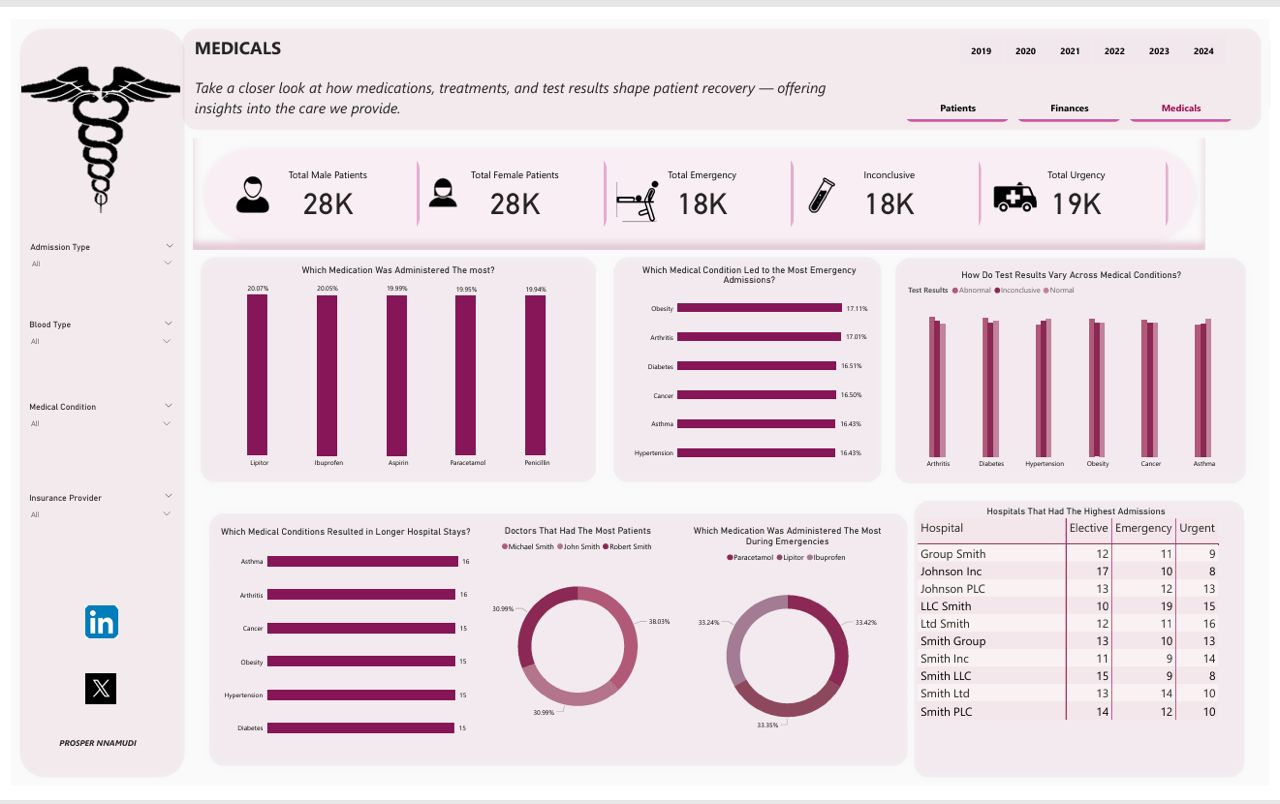

Layout of this report page (visuals, bound fields, positions):
{"tool":"powerbi","page":{"name":"Medicals","canvas":[2300,1400],"ordinal":2},"visuals":[{"type":"shape","box":[331.8,215.8,1848.8,202.9],"z":0},{"type":"shape","box":[296.7,0,2003.3,216.7],"z":1000},{"type":"shape","box":[0,0,333.3,1400],"z":2000},{"type":"slicer","fields":{"Values":["DateTable.Year"]},"box":[2489.3,53.6,410.7,75],"z":3000},{"type":"shape","box":[346.4,886.3,1307.3,492.4],"z":4000},{"type":"shape","box":[330.3,418.2,754.5,442.4],"z":5000},{"type":"shape","box":[1600,418.8,671.9,443.8],"z":6000},{"type":"shape","box":[1634.4,862.5,634.4,537.5],"z":7000},{"type":"shape","box":[1084.8,418.2,521.2,442.4],"z":8000},{"type":"clusteredColumnChart","title":" Which Medication Was  Administered The most?","fields":{"Category":["healthcare_dataset.Medication"],"Y":["healthcare_dataset.Medication"]},"box":[376.9,446.2,661.5,380.8],"z":9000},{"type":"barChart","title":"Which Medical Conditions Resulted in Longer Hospital Stays?","fields":{"Category":["healthcare_dataset.Medical Condition"],"Y":["dax.Average Length of Stay"]},"box":[376.9,923.6,468.6,410.9],"z":10000},{"type":"donutChart","title":"Doctors That Had The Most Patients","fields":{"Y":["dax.Total Patients"],"Category":["healthcare_dataset.Doctor"]},"box":[857.1,922.9,357.1,394.3],"z":11000},{"type":"clusteredBarChart","title":"Which Medical Condition Led to the Most Emergency Admissions?","fields":{"Category":["healthcare_dataset.Medical Condition"],"Y":["dax.Total Emergency"]},"box":[1126.8,446.4,444.6,380.4],"z":12000},{"type":"donutChart","title":"Which Medication Was Administered The Most During Emergencies","fields":{"Category":["healthcare_dataset.Medication"],"Y":["dax.Total Emergency"]},"box":[1231.4,922.9,374.3,411.4],"z":13000},{"type":"clusteredColumnChart","title":"How Do Test Results Vary Across Medical Conditions?","fields":{"Category":["healthcare_dataset.Medical Condition"],"Series":["healthcare_dataset.Test Results"],"Y":["dax.Total Patients"]},"box":[1633.9,455.4,607.1,373.2],"z":14000},{"type":"pivotTable","title":"Hospitals That Had The Highest Admissions","fields":{"Rows":["healthcare_dataset.Hospital"],"Columns":["healthcare_dataset.Admission Type"],"Values":["dax.Total Patients"]},"box":[1652.4,888.1,588.1,450],"z":15000},{"type":"cardVisual","fields":{"Data":["dax.Total Male Patients","dax.Total Female Patients","dax.Total Emergency","dax.Inconclusive","dax.Total Urgency"]},"box":[406.2,237.5,1712.5,159.4],"z":16000},{"type":"image","box":[14.3,5.7,300,420],"z":17000},{"type":"pageNavigator","box":[1634.5,137.9,600,48.3],"z":18000},{"type":"slicer","fields":{"Values":["DateTable.Year"]},"box":[1706.7,23.3,536.7,63.3],"z":19000},{"type":"image","box":[128.6,1188.6,71.4,65.7],"z":20000},{"type":"textbox","box":[82.9,1305.7,165.7,34.3],"z":21000},{"type":"image","box":[128.6,1065.7,71.4,68.6],"z":22000},{"type":"slicer","fields":{"Values":["healthcare_dataset.Insurance Provider"]},"box":[20,857.8,286.7,111.1],"z":23000},{"type":"slicer","fields":{"Values":["healthcare_dataset.Medical Condition"]},"box":[20,693.3,286.7,111.1],"z":24000},{"type":"slicer","fields":{"Values":["healthcare_dataset.Blood Type"]},"box":[20,542.2,286.7,111.1],"z":25000},{"type":"slicer","fields":{"Values":["healthcare_dataset.Admission Type"]},"box":[22.2,400,286.7,111.1],"z":26000},{"type":"textbox","box":[330,23.3,1200,160],"z":27000},{"type":"image","box":[405.7,277.1,71.4,82.9],"z":28000},{"type":"image","box":[708.6,234.3,160,162.9],"z":29000},{"type":"image","box":[1778,277,112.7,90.2],"z":30000},{"type":"image","box":[1085.5,257.7,122.4,141.7],"z":31000},{"type":"image","box":[1433.3,264.1,96.6,112.7],"z":32000}]}

Visuals, with their boxes on the page's 2300x1400 design canvas (x1, y1, x2, y2). These are canvas units, not pixel positions in the 1280x804 screenshot, which may show the page scaled, cropped or inside an application window:
shape: {"x1": 332, "y1": 216, "x2": 2181, "y2": 419}
shape: {"x1": 297, "y1": 0, "x2": 2300, "y2": 217}
shape: {"x1": 0, "y1": 0, "x2": 333, "y2": 1400}
slicer - DateTable.Year: {"x1": 2489, "y1": 54, "x2": 2900, "y2": 129}
shape: {"x1": 346, "y1": 886, "x2": 1654, "y2": 1379}
shape: {"x1": 330, "y1": 418, "x2": 1085, "y2": 861}
shape: {"x1": 1600, "y1": 419, "x2": 2272, "y2": 863}
shape: {"x1": 1634, "y1": 862, "x2": 2269, "y2": 1400}
shape: {"x1": 1085, "y1": 418, "x2": 1606, "y2": 861}
" Which Medication Was  Administered The most?" clusteredColumnChart: {"x1": 377, "y1": 446, "x2": 1038, "y2": 827}
"Which Medical Conditions Resulted in Longer Hospital Stays?" barChart: {"x1": 377, "y1": 924, "x2": 846, "y2": 1334}
"Doctors That Had The Most Patients" donutChart: {"x1": 857, "y1": 923, "x2": 1214, "y2": 1317}
"Which Medical Condition Led to the Most Emergency Admissions?" clusteredBarChart: {"x1": 1127, "y1": 446, "x2": 1571, "y2": 827}
"Which Medication Was Administered The Most During Emergencies" donutChart: {"x1": 1231, "y1": 923, "x2": 1606, "y2": 1334}
"How Do Test Results Vary Across Medical Conditions?" clusteredColumnChart: {"x1": 1634, "y1": 455, "x2": 2241, "y2": 829}
"Hospitals That Had The Highest Admissions" pivotTable: {"x1": 1652, "y1": 888, "x2": 2240, "y2": 1338}
cardVisual - dax.Total Male Patients x dax.Total Female Patients: {"x1": 406, "y1": 238, "x2": 2119, "y2": 397}
image: {"x1": 14, "y1": 6, "x2": 314, "y2": 426}
pageNavigator: {"x1": 1634, "y1": 138, "x2": 2234, "y2": 186}
slicer - DateTable.Year: {"x1": 1707, "y1": 23, "x2": 2243, "y2": 87}
image: {"x1": 129, "y1": 1189, "x2": 200, "y2": 1254}
textbox: {"x1": 83, "y1": 1306, "x2": 249, "y2": 1340}
image: {"x1": 129, "y1": 1066, "x2": 200, "y2": 1134}
slicer - healthcare_dataset.Insurance Provider: {"x1": 20, "y1": 858, "x2": 307, "y2": 969}
slicer - healthcare_dataset.Medical Condition: {"x1": 20, "y1": 693, "x2": 307, "y2": 804}
slicer - healthcare_dataset.Blood Type: {"x1": 20, "y1": 542, "x2": 307, "y2": 653}
slicer - healthcare_dataset.Admission Type: {"x1": 22, "y1": 400, "x2": 309, "y2": 511}
textbox: {"x1": 330, "y1": 23, "x2": 1530, "y2": 183}
image: {"x1": 406, "y1": 277, "x2": 477, "y2": 360}
image: {"x1": 709, "y1": 234, "x2": 869, "y2": 397}
image: {"x1": 1778, "y1": 277, "x2": 1891, "y2": 367}
image: {"x1": 1086, "y1": 258, "x2": 1208, "y2": 399}
image: {"x1": 1433, "y1": 264, "x2": 1530, "y2": 377}
